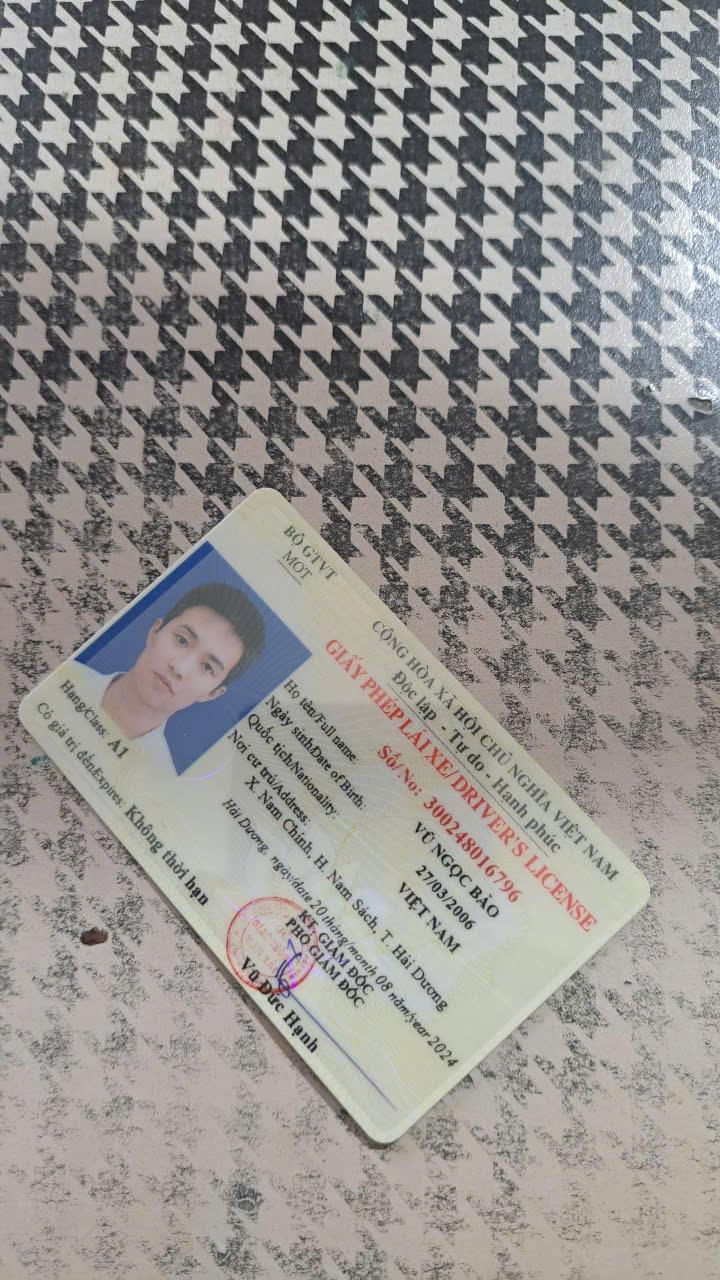gplx: (14, 481, 660, 1155)
